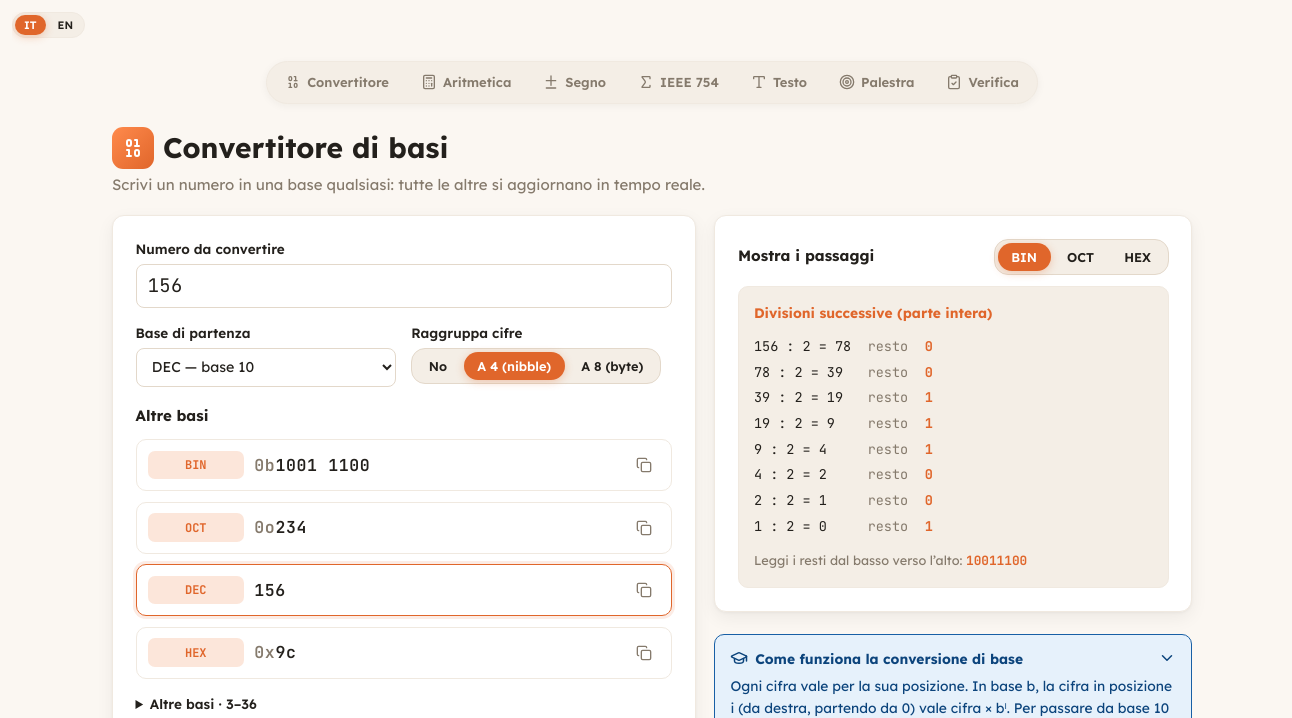
Scenario: Convertitore — comportamento › segnala una cifra non valida per la base
Step 1. Replace the text in the field labelled "Numero da convertire" with "9" → (404, 286), box [136,264,672,308]
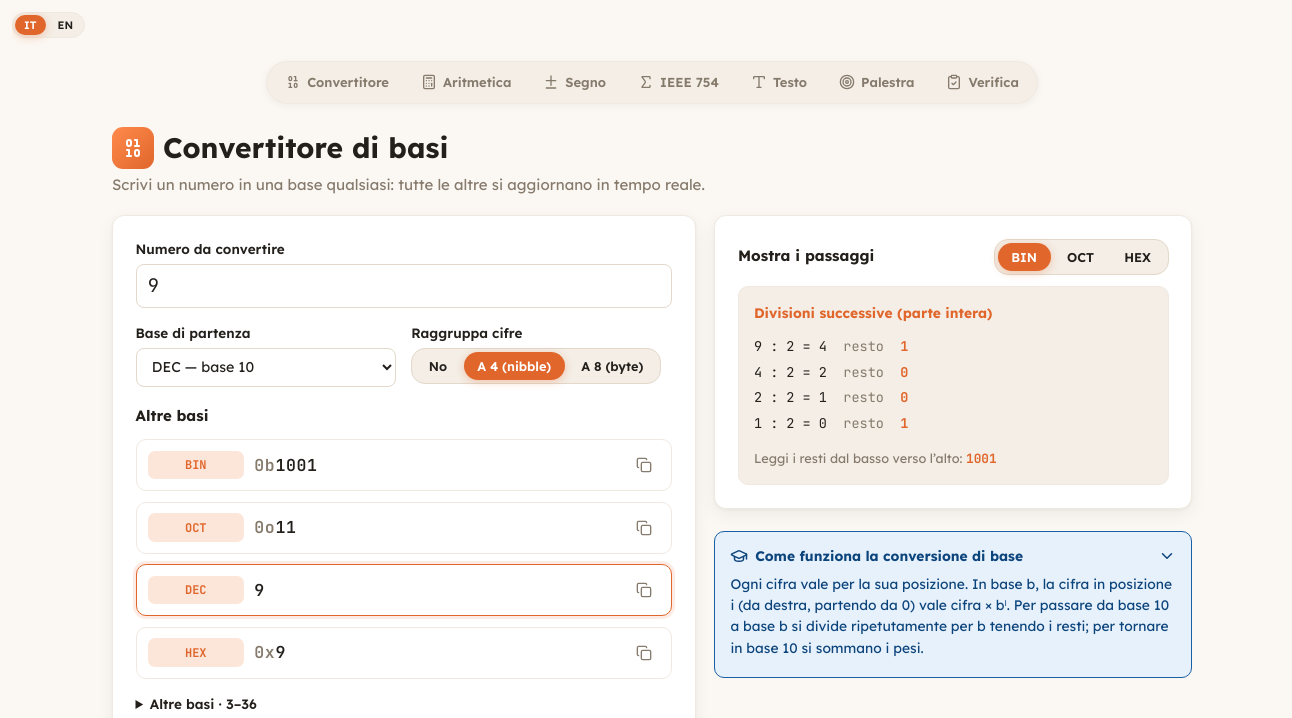
Step 2. Replace the text in the field labelled "Numero da convertire" with "Z" → (404, 286), box [136,264,672,308]
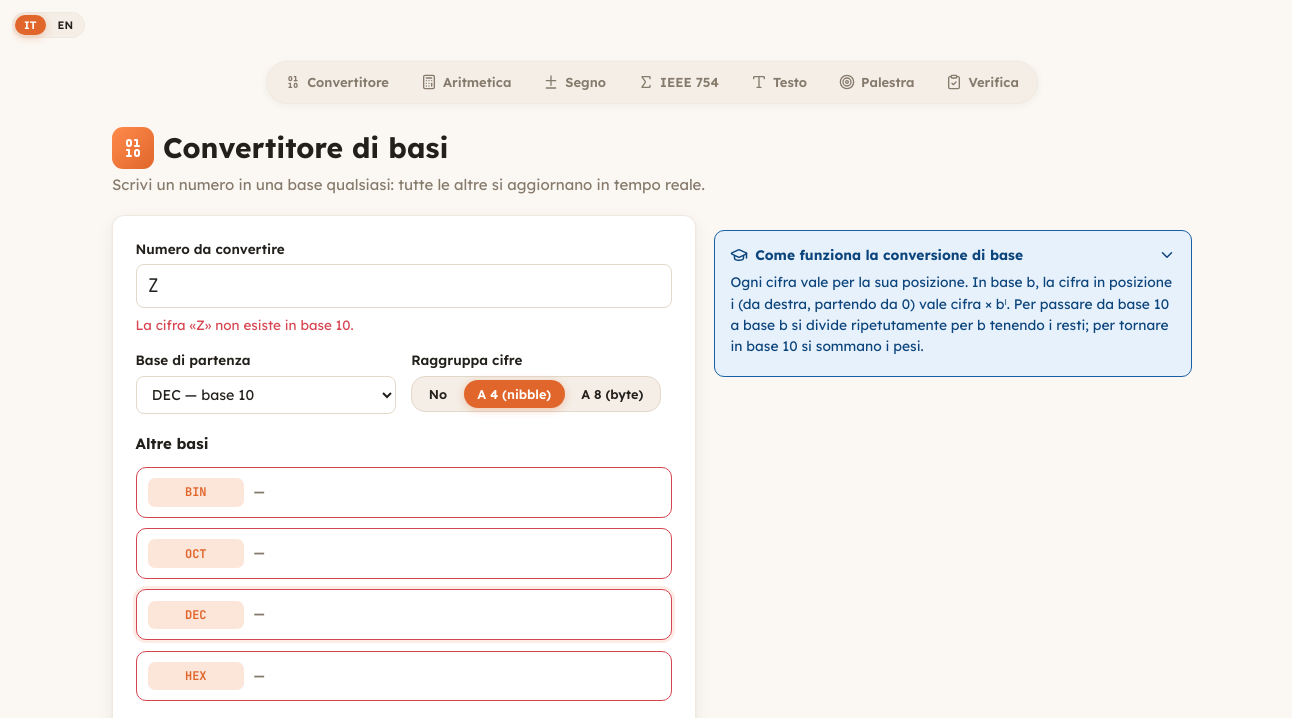
Result: the text "La cifra «Z» non esiste in base 10." is shown at [136,316,354,333]
